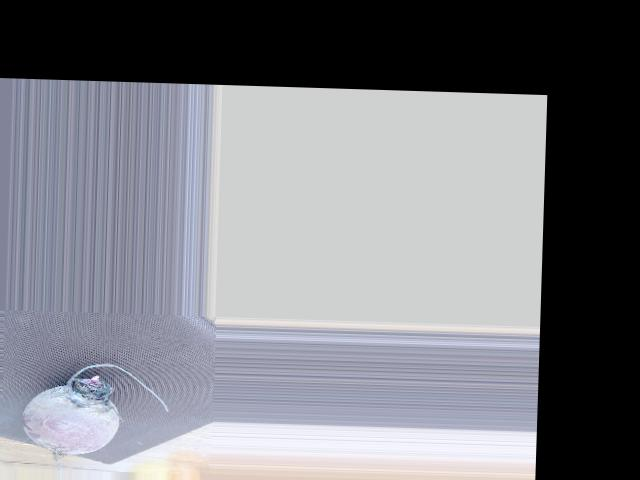beet: (20, 360, 169, 473)
